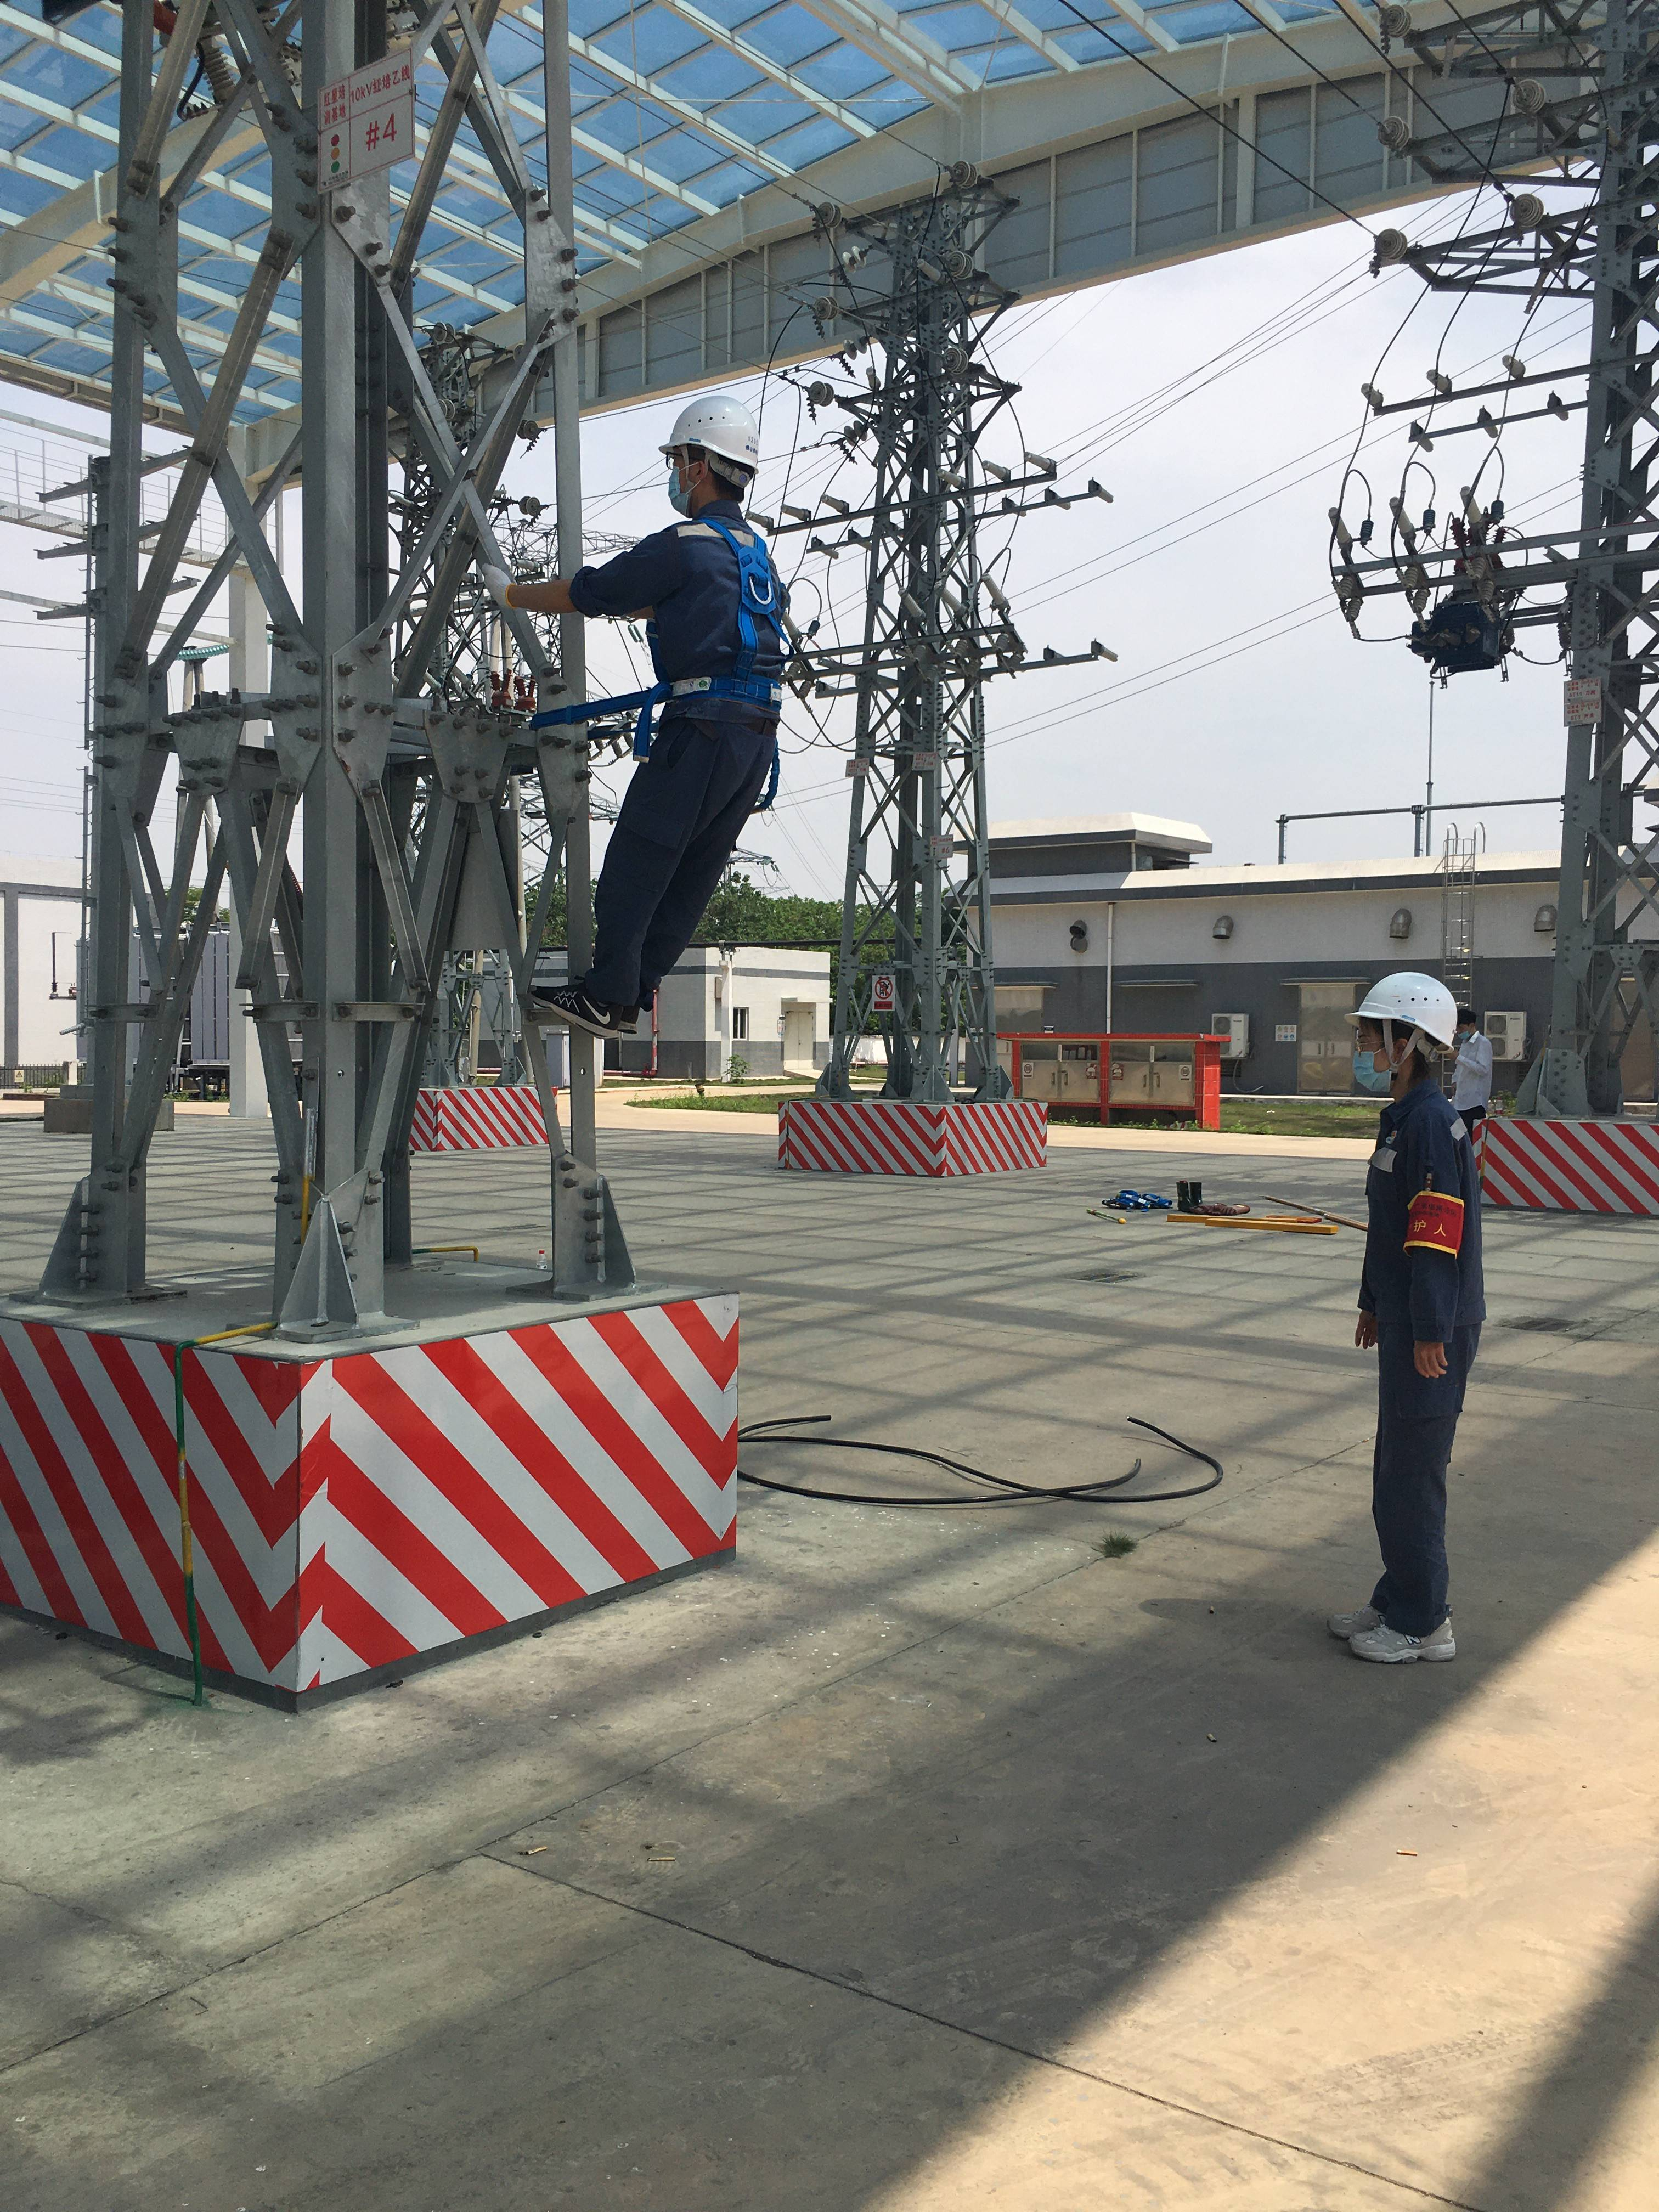downsuit: (587, 733, 775, 1000), (1364, 1348, 1476, 1623)
upsuit: (579, 514, 791, 714), (1358, 1097, 1492, 1331)
wrongtop: (518, 568, 603, 618)
